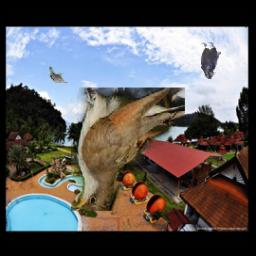Crow: (201, 41, 222, 79)
Cuckoo: (71, 88, 185, 212), (49, 66, 68, 83)
